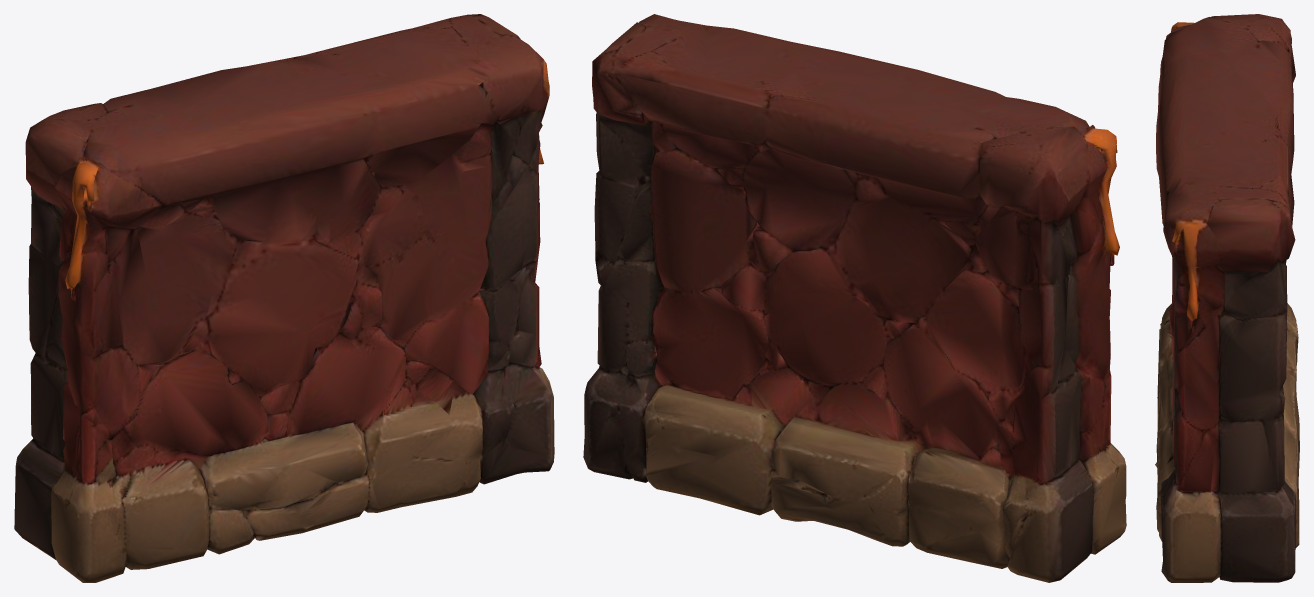
File: bolsa_de_ladrillos_de_arcilla.glb
3 renders of one model, left to right at view 1: azimuth 30°, elevation 25°; view 2: azimuth 150°, elevation 25°; view 3: azimuth 270°, elevation 25°, orthographic. The views are drawn at different scales.
Parts seen in each view (by area): view 1: bolsa_de_ladrillos_de_arcilla; view 2: bolsa_de_ladrillos_de_arcilla; view 3: bolsa_de_ladrillos_de_arcilla.
Boxes of the visible parts, x1=… form: bolsa_de_ladrillos_de_arcilla: x1=14, y1=14, x2=554, y2=582; bolsa_de_ladrillos_de_arcilla: x1=583, y1=14, x2=1126, y2=582; bolsa_de_ladrillos_de_arcilla: x1=1155, y1=14, x2=1299, y2=582.
Size of what is drawn, in the model's own units: 0.7181 by 0.5997 by 0.2096.
1 material, 1 textured.
